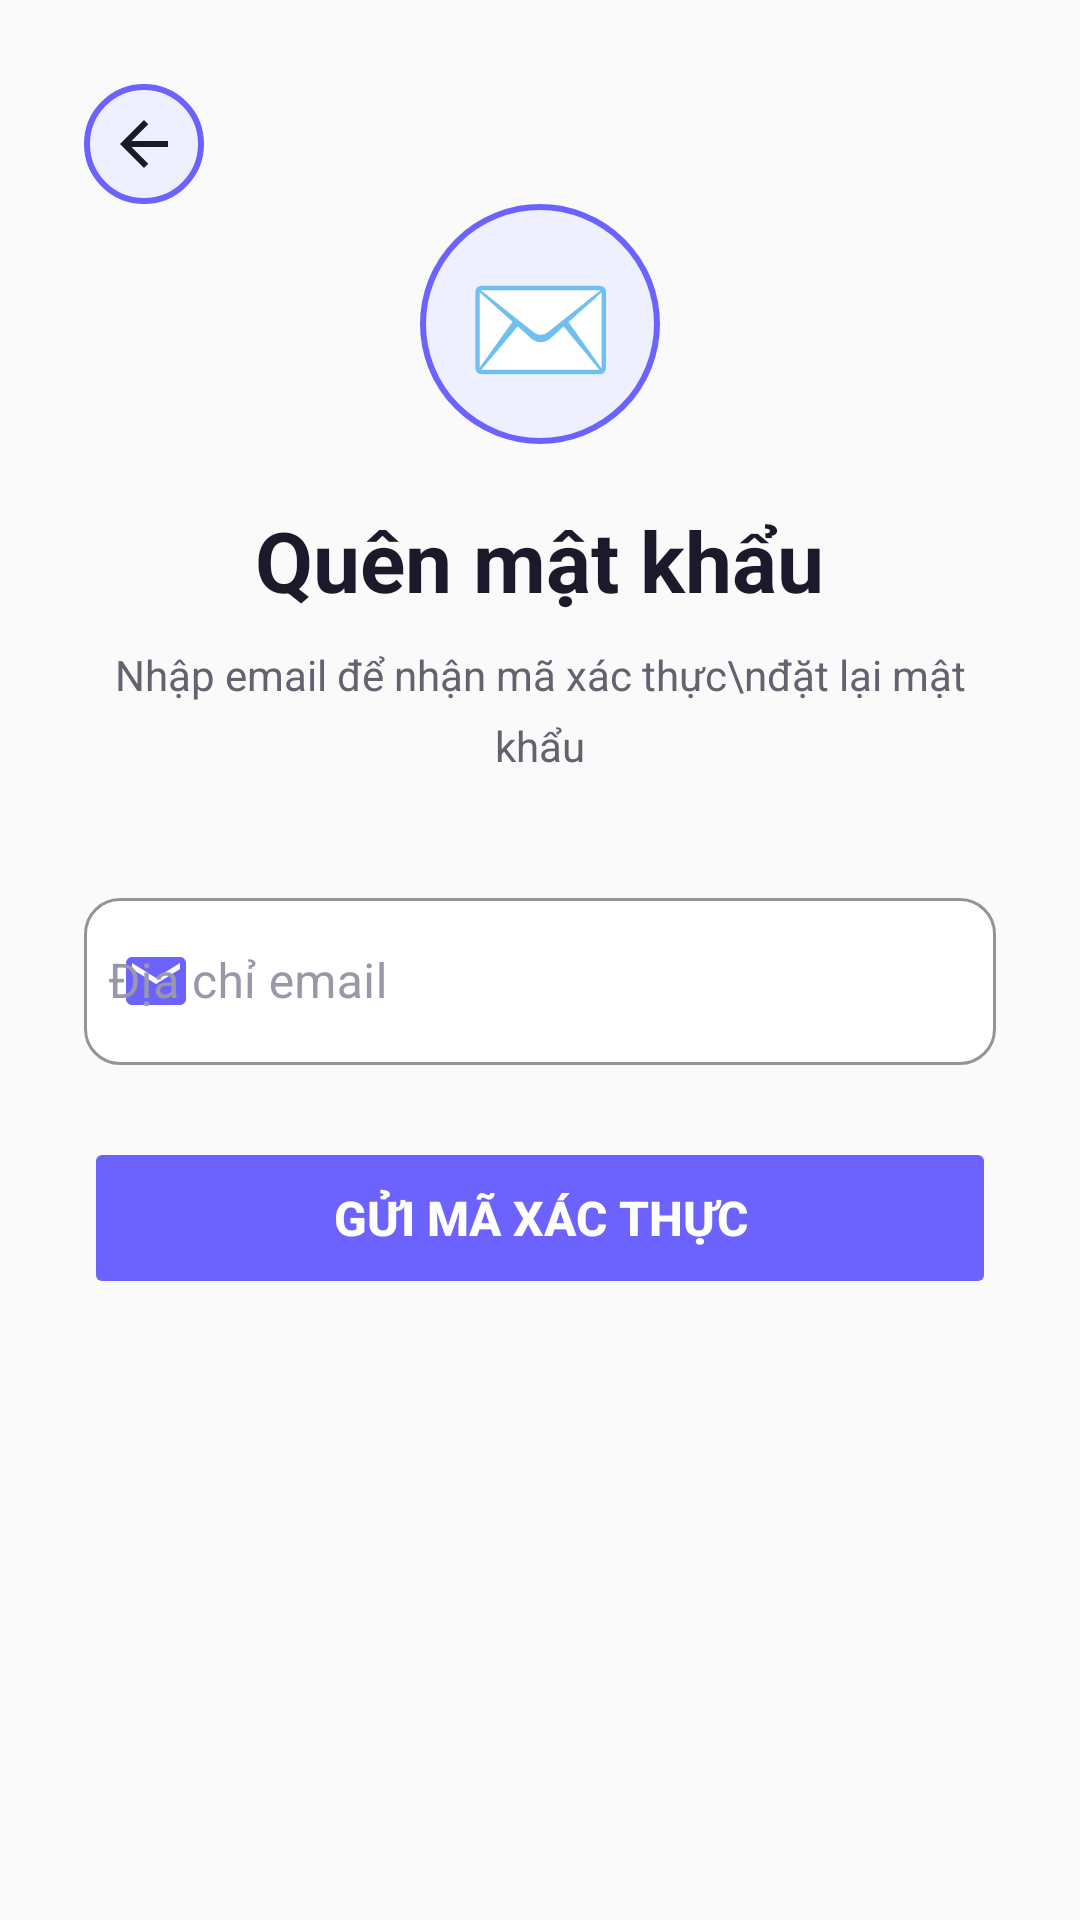

Named icons in this screenshot (1080w x 1920h) and their bounding boxes, [x1=x1, y1=y1, x2=x2, y2=y2]:
Trở về: [x1=84, y1=84, x2=204, y2=204]
